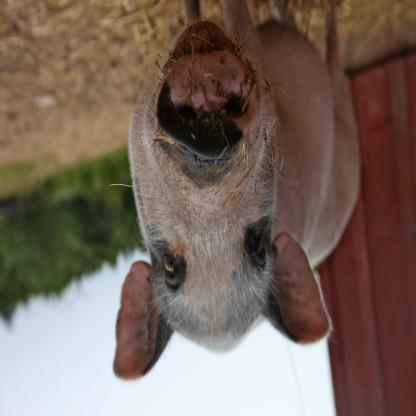boar: (108, 1, 360, 383)
